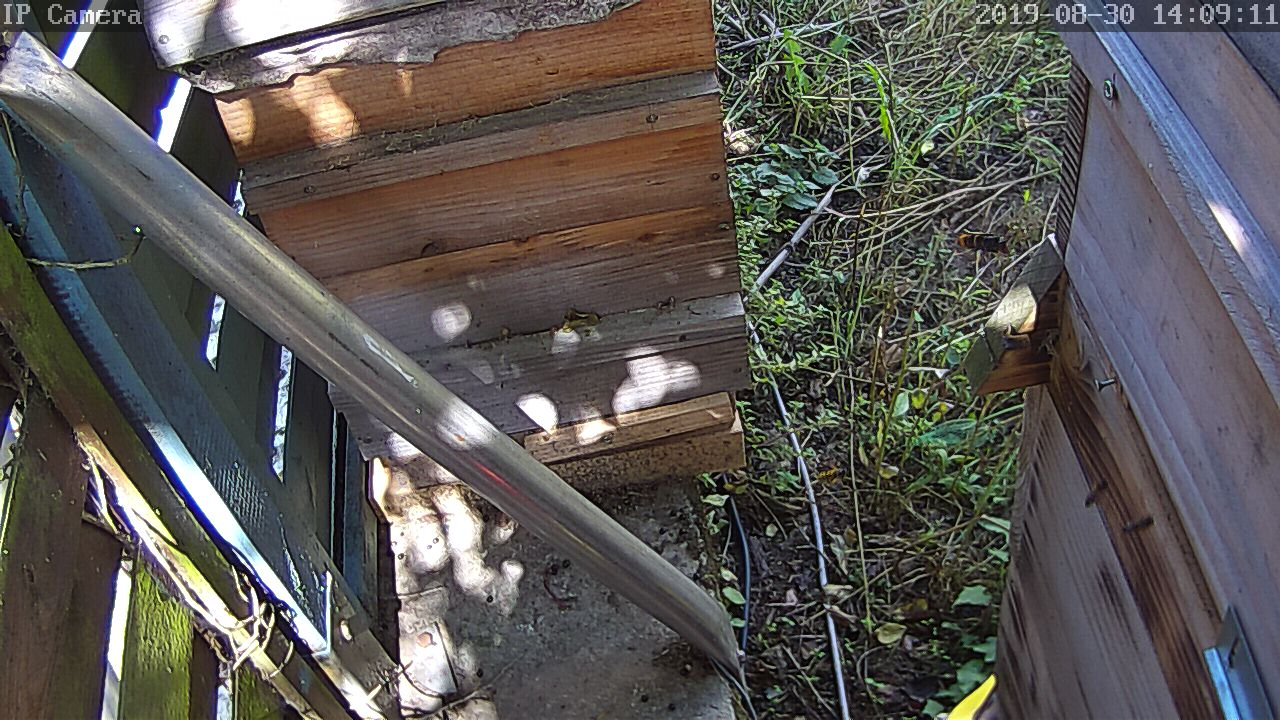hornet: (53, 3, 1144, 720)
